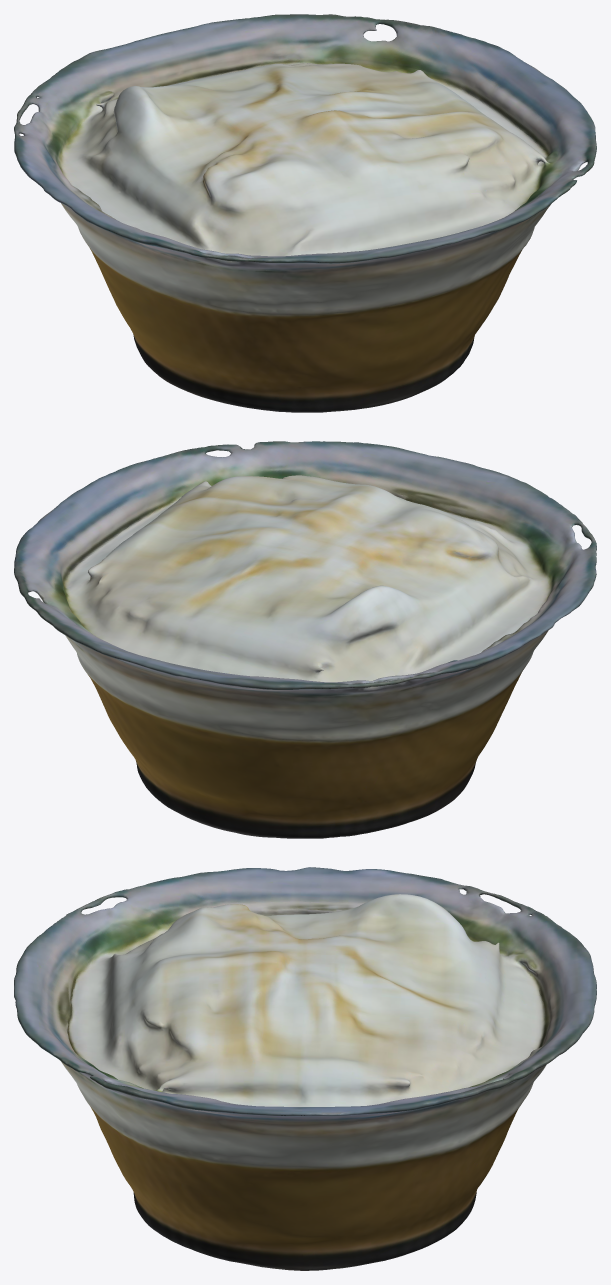
File: Crème sucrée au Mascarpone.glb
3 renders of one model, top to bottom at view 1: azimuth 30°, elevation 25°; view 2: azimuth 150°, elevation 25°; view 3: azimuth 270°, elevation 25°, orthographic.
Visible parts, largest first — view 1: high_poly; view 2: high_poly; view 3: high_poly.
Boxes of the visible parts, left/top/right/bottom form: high_poly: left=14, top=14, right=596, bottom=412; high_poly: left=14, top=441, right=596, bottom=838; high_poly: left=14, top=867, right=596, bottom=1270.
Bounding box in the file's own units: 0.9986 × 0.4728 × 1.
1 material, 1 textured.
